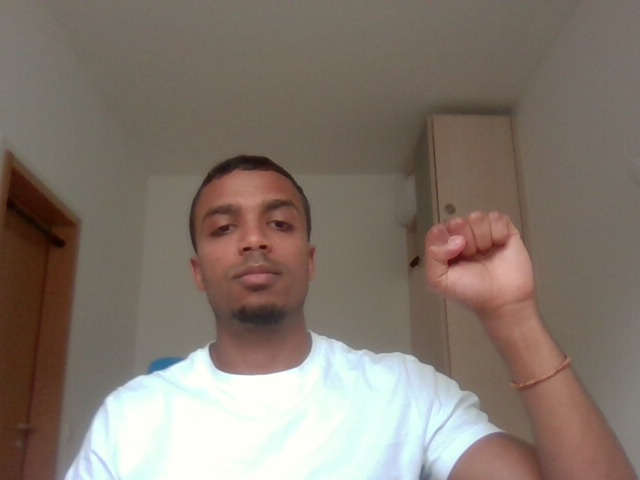neutral: (417, 197, 562, 332)
